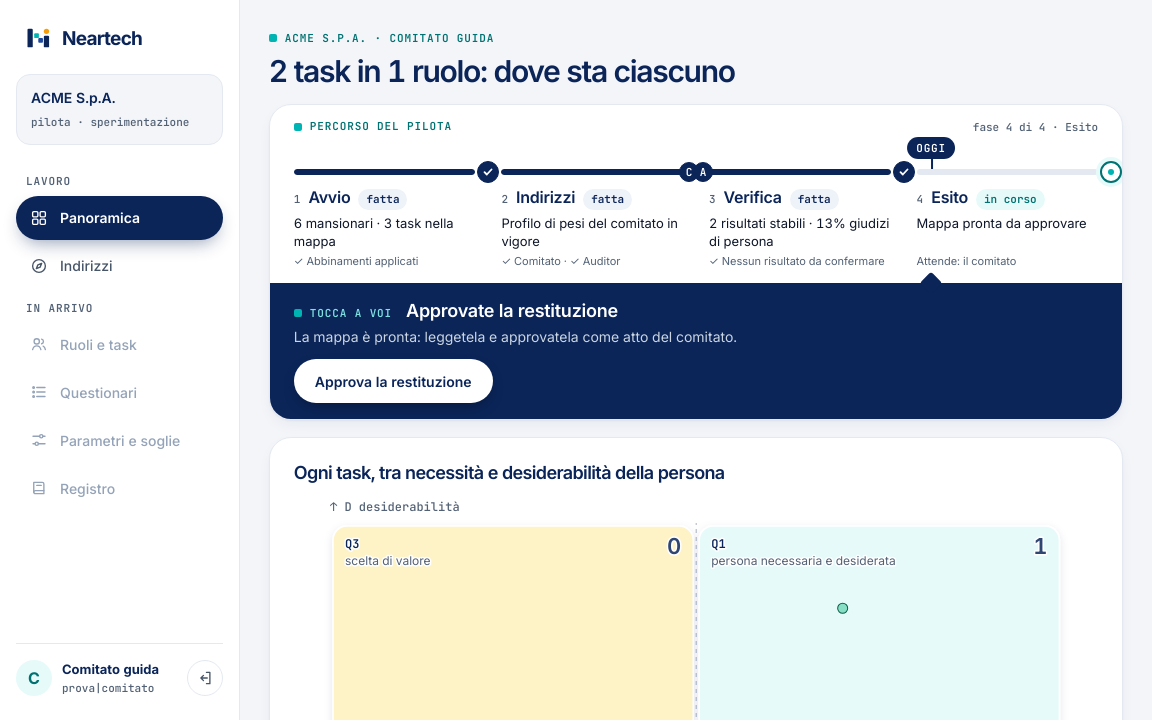
panoramica del comitato › dice chiaramente se un altro membro ha già approvato
Click the button "Approva la restituzione" at [393, 381], box [294,359,493,403]
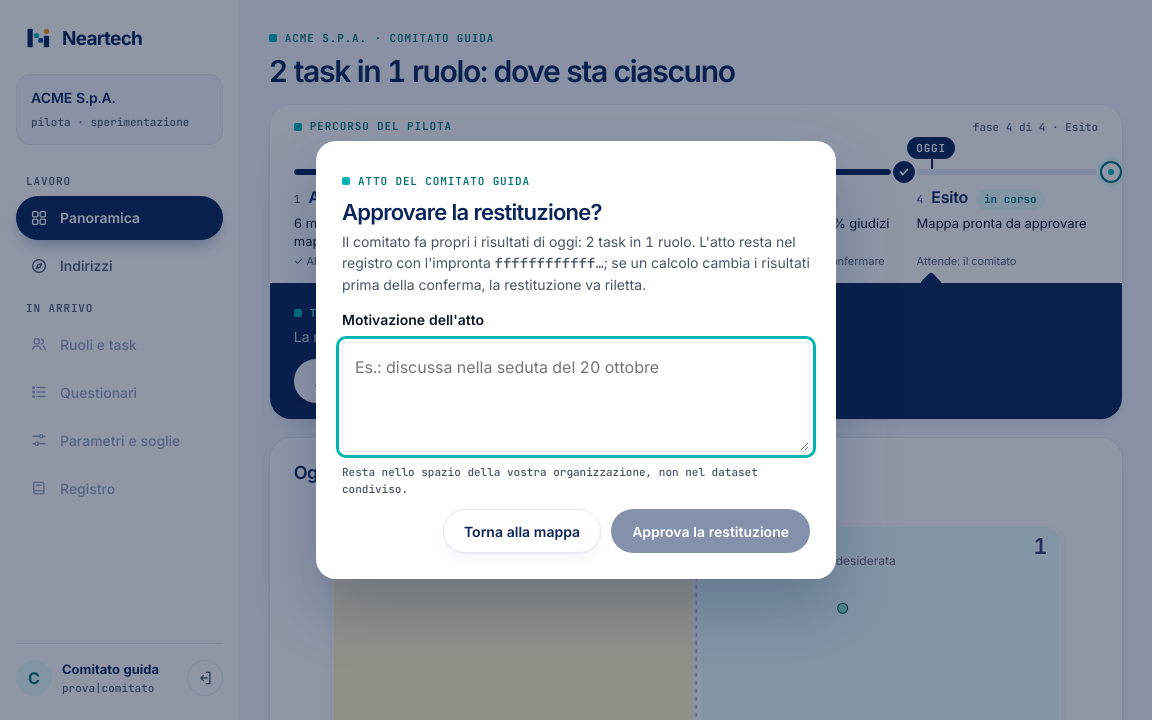
Type "letta in seduta" into the text box labelled "Motivazione dell'atto" at [576, 397], box [342,342,810,452]
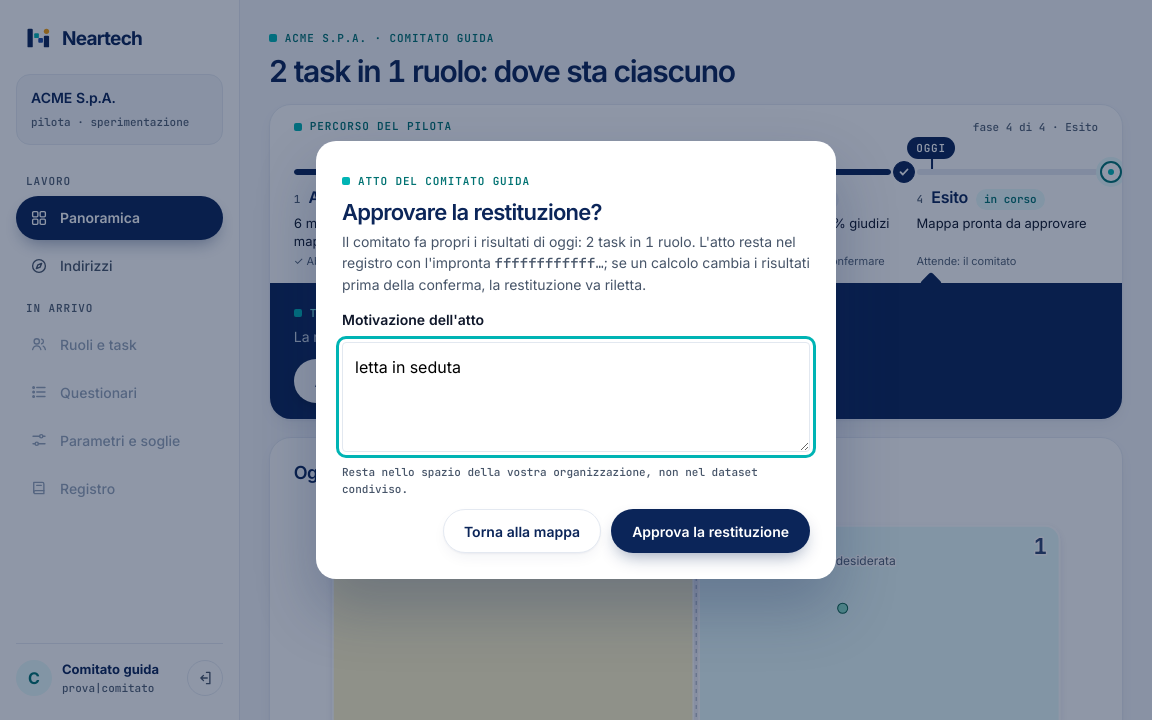
Click the button "Approva la restituzione" below "Motivazione dell'atto" at [711, 531], box [611,509,810,553]
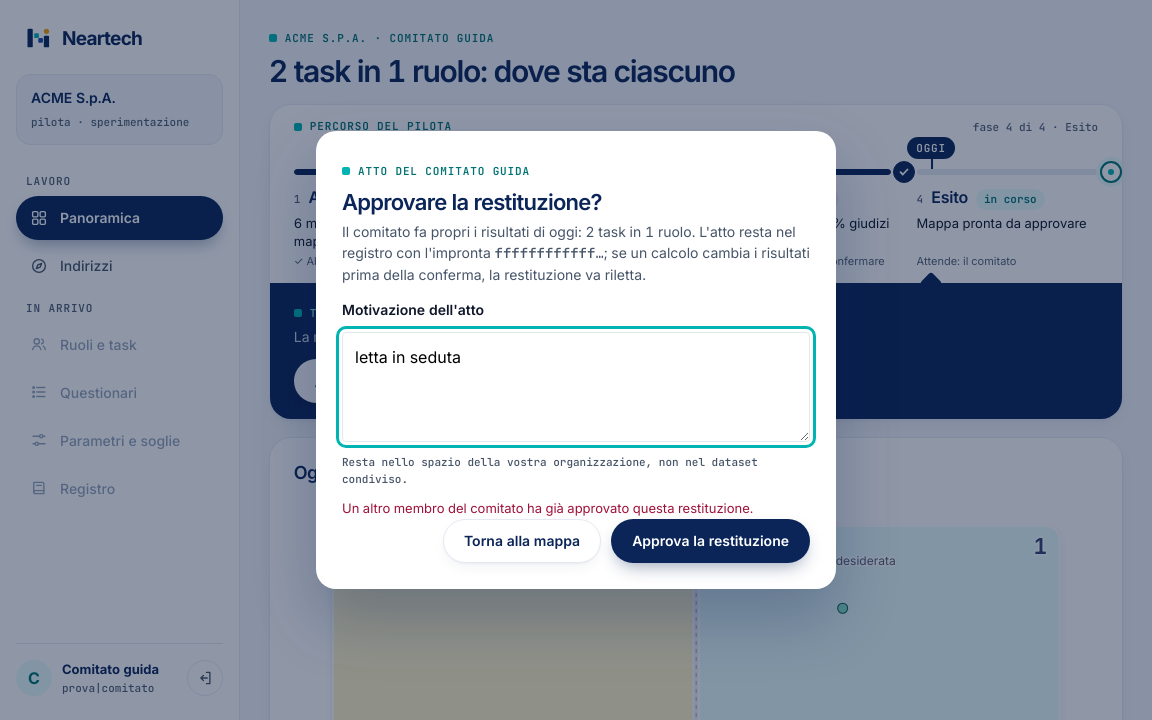
expect the message shows "Un altro membro del comitato ha già approvato": met, box [342,500,753,516]
